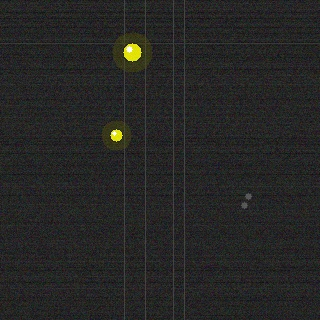yellow_warning: (121, 41, 143, 63), (108, 127, 124, 143)
